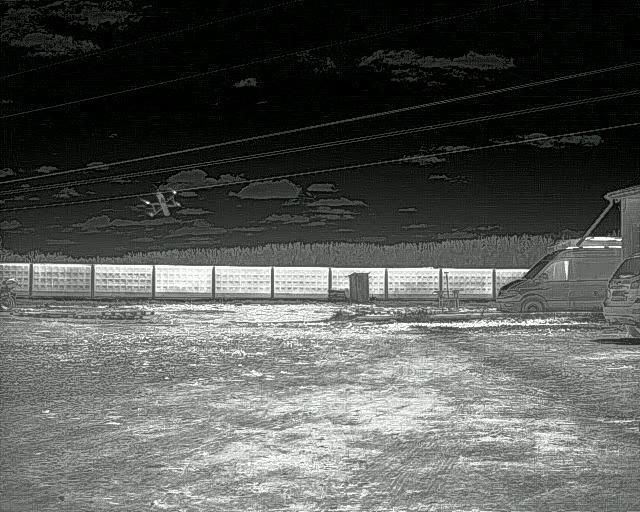drone-thermal: (140, 188, 182, 218)
